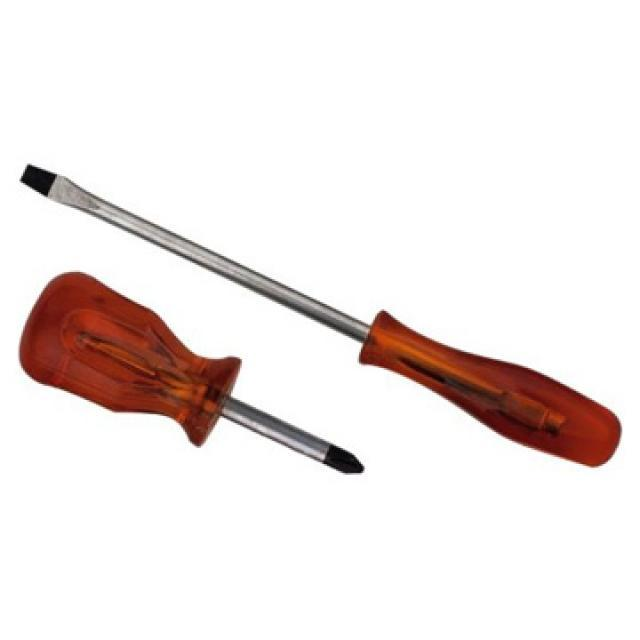screwdriver: (16, 150, 640, 476), (0, 260, 382, 548)
